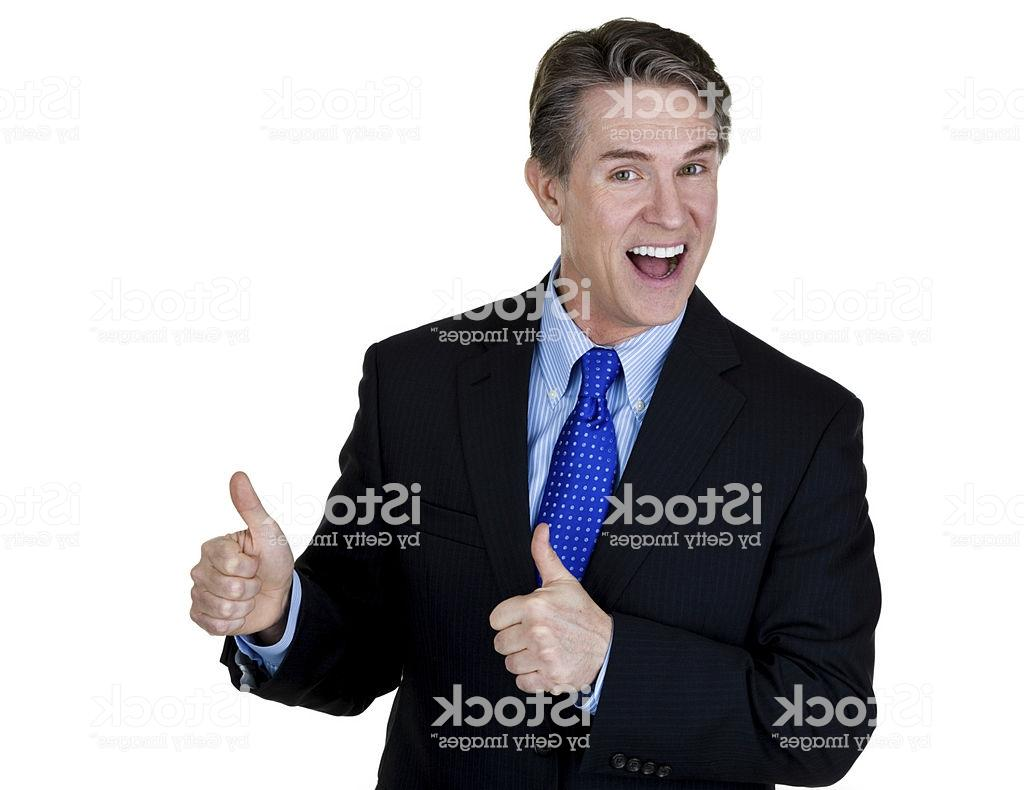thumbsup: (486, 521, 572, 694), (188, 472, 272, 636)
